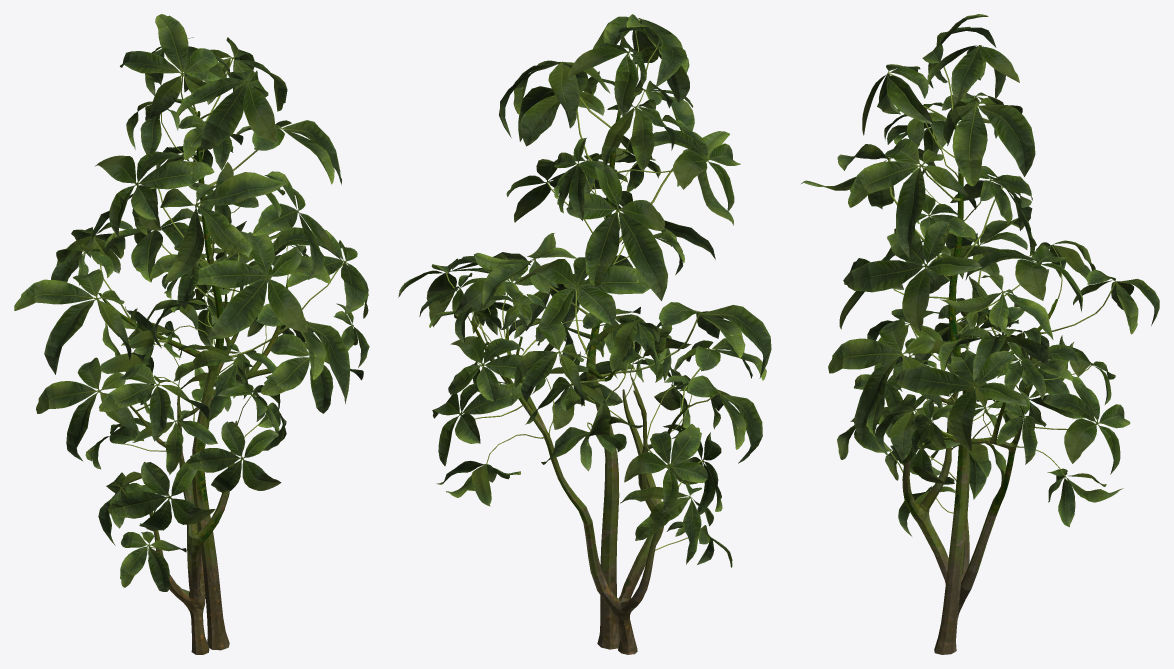
Rendered from pachira-a.glb.
3 renders of one model, left to right at view 1: azimuth 30°, elevation 25°; view 2: azimuth 150°, elevation 25°; view 3: azimuth 270°, elevation 25°, orthographic. The views are drawn at different scales.
Size of the model in its own units: 1.05 by 1.9 by 0.997.
Materials: 2 (2 with a texture image).
